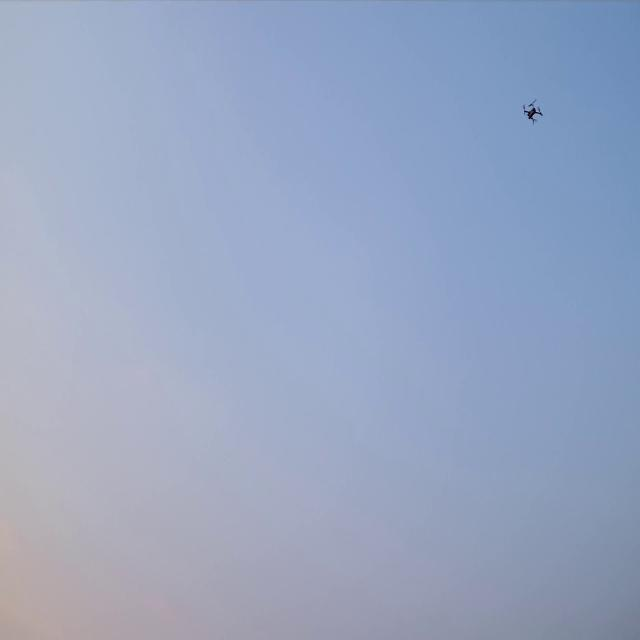UAV: (524, 102, 541, 124)
